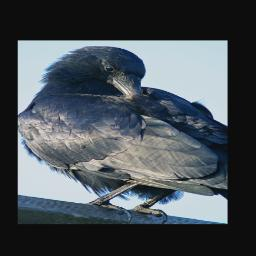Crow: (19, 46, 228, 223)
